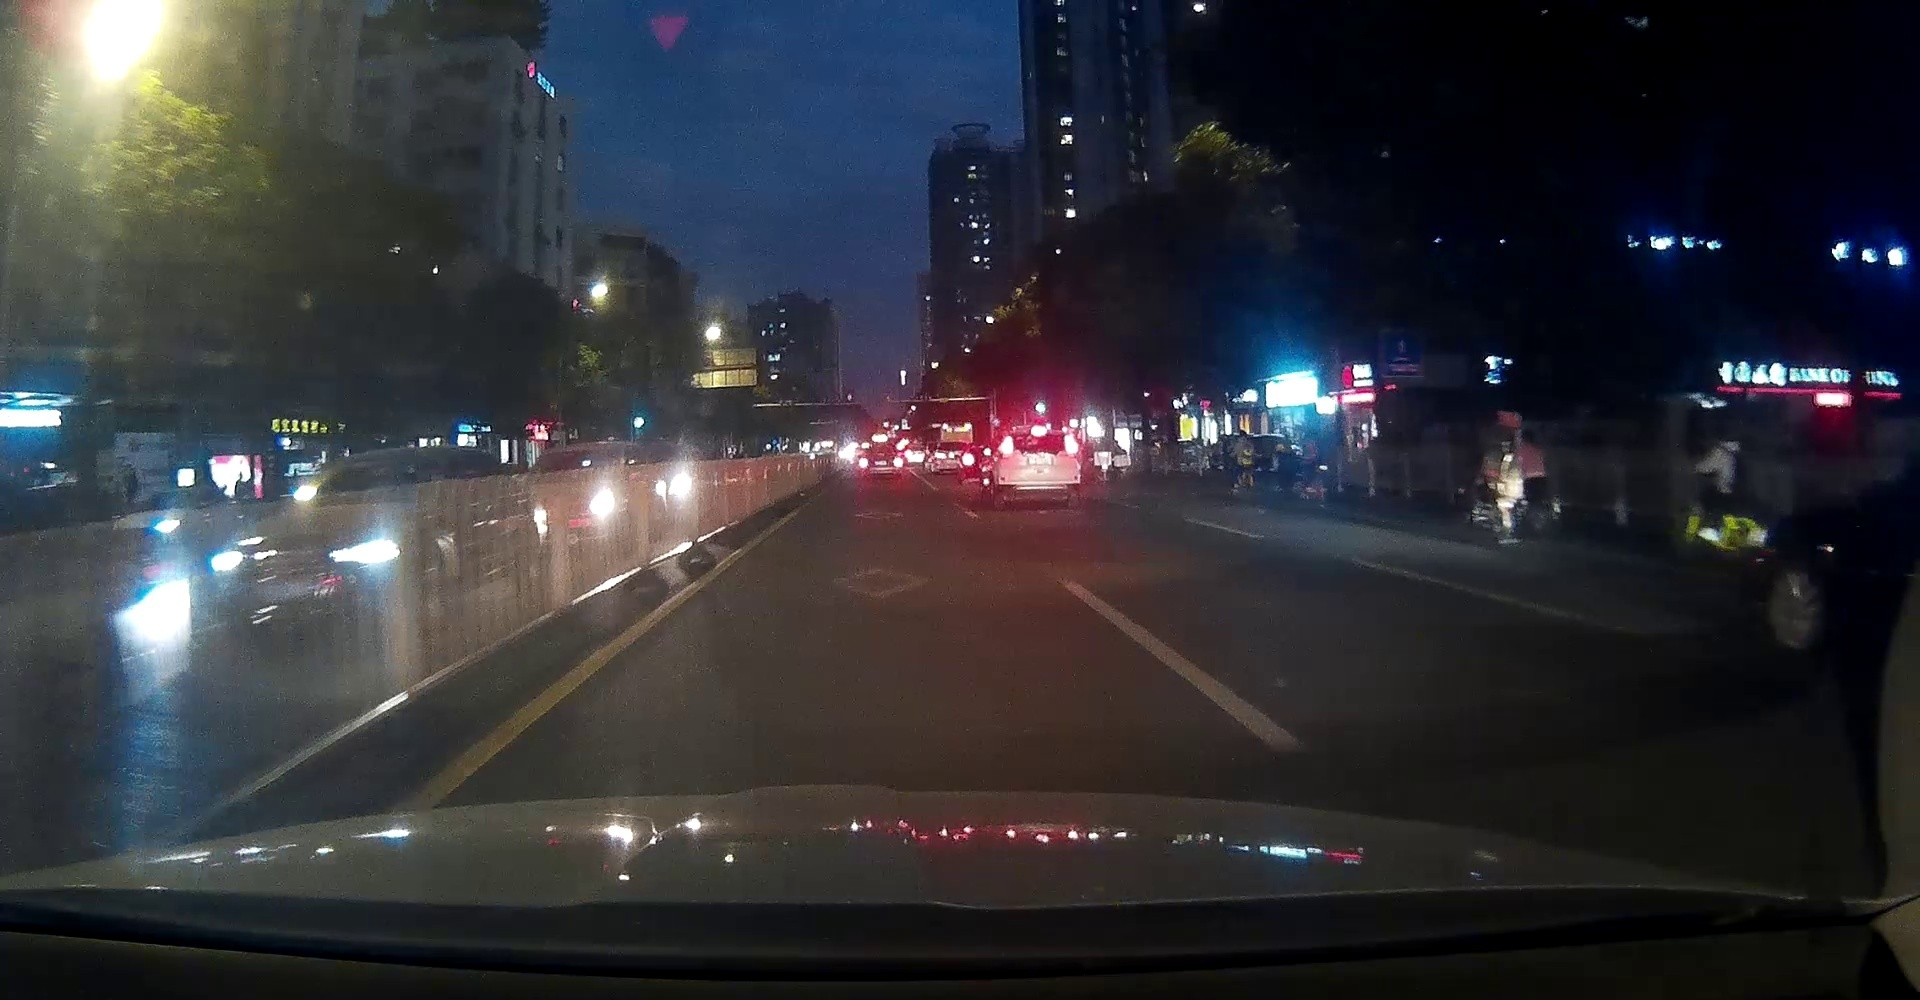L_light: (998, 437, 1013, 459)
R_light: (1063, 434, 1079, 456)
T_light: (1030, 431, 1048, 437)
night-brake: (993, 428, 1082, 509)
